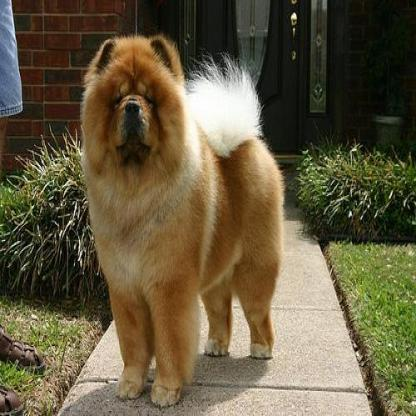chow: (80, 32, 284, 410)
